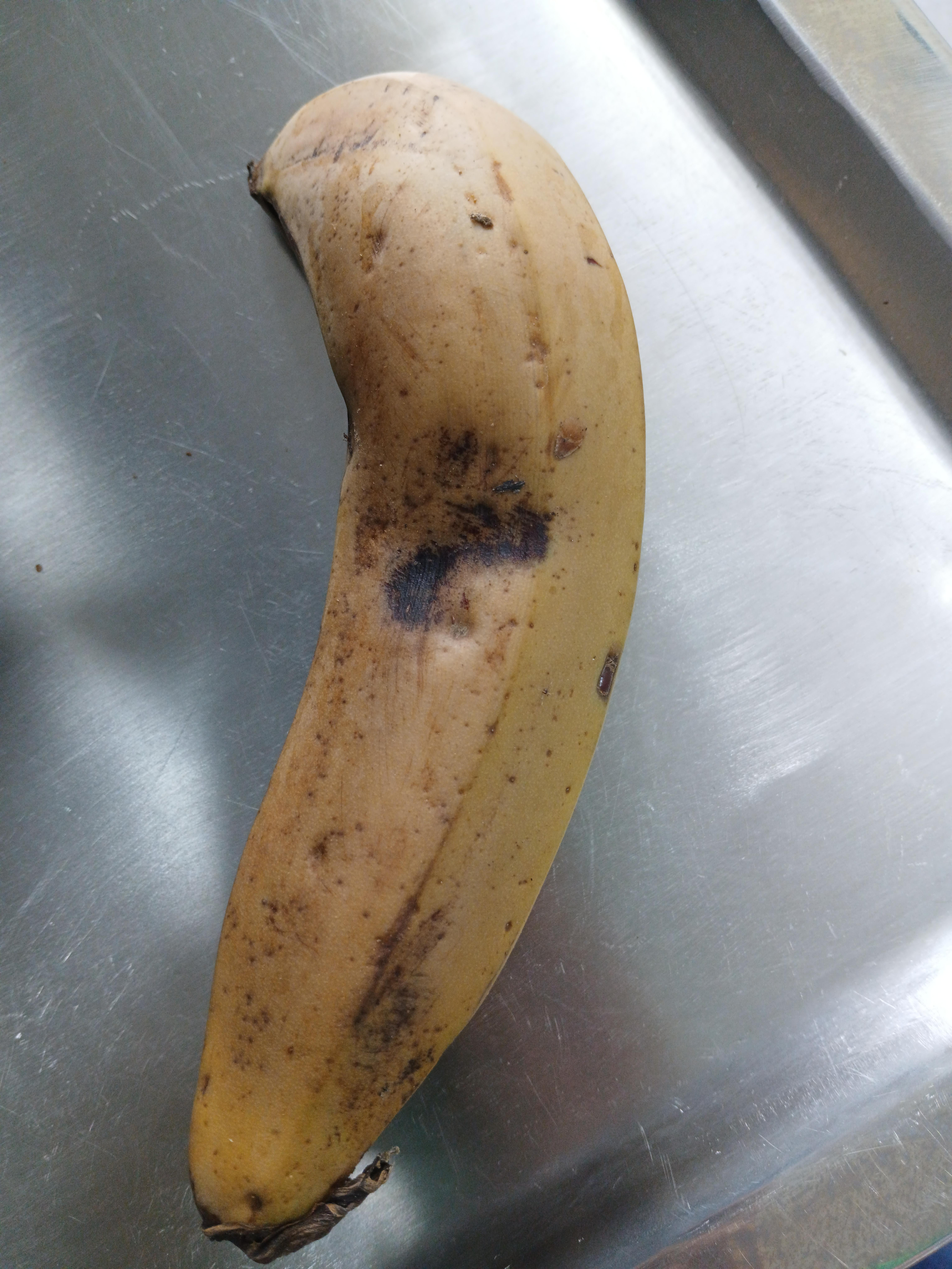Organico: (191, 69, 648, 1242)
